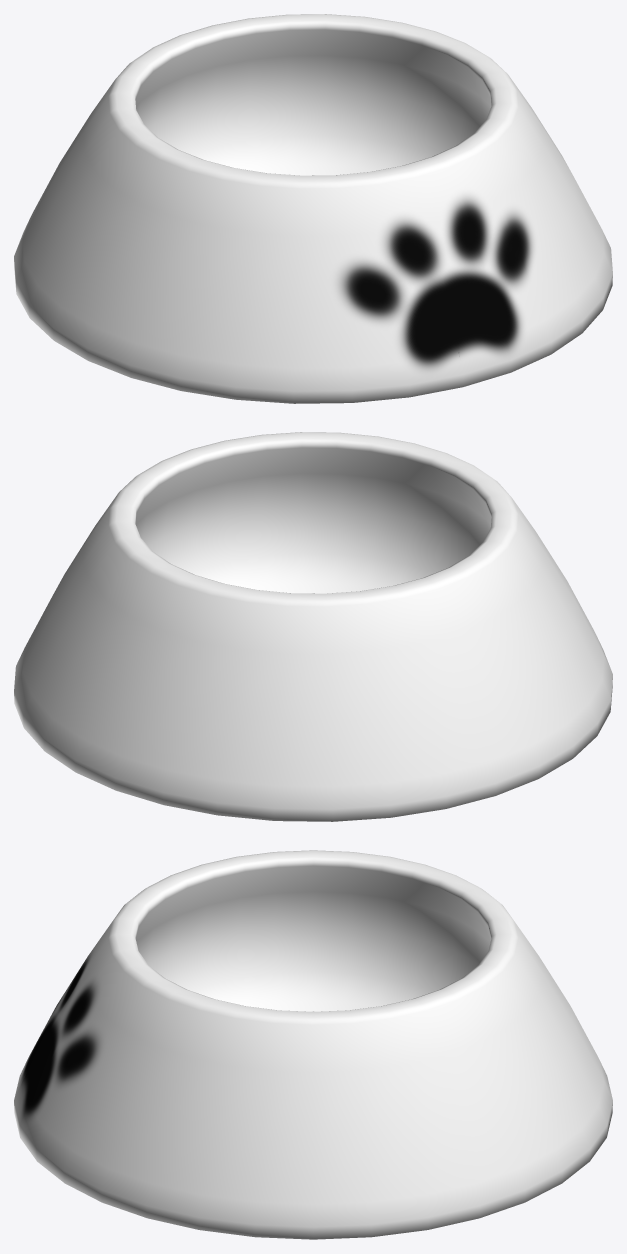
The model's file is Bowl.fbx.
The picture shows the model from 3 angles, top to bottom: view 1: azimuth 30°, elevation 25°; view 2: azimuth 150°, elevation 25°; view 3: azimuth 270°, elevation 25°; orthographic projection.
Parts seen in each view (by area): view 1: Cylinder; view 2: Cylinder; view 3: Cylinder.
Boxes of the visible parts, left/top/right/bottom form: Cylinder: left=14, top=14, right=612, bottom=403; Cylinder: left=14, top=432, right=612, bottom=821; Cylinder: left=14, top=850, right=612, bottom=1239.
Bounding box in the file's own units: 296 × 100 × 296.
